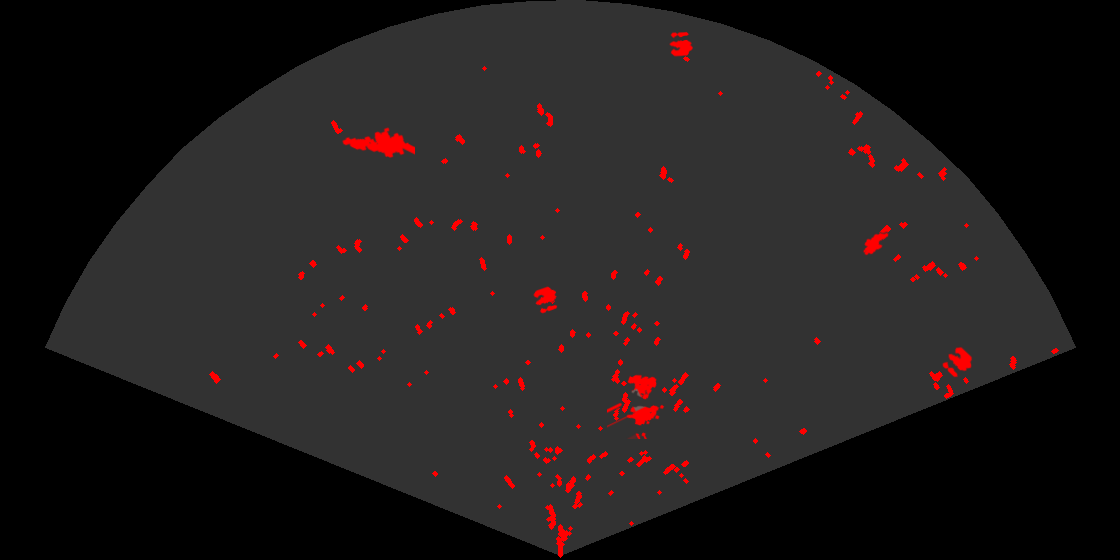AUV: (862, 231, 890, 257)
ball: (941, 345, 974, 379), (531, 285, 559, 315), (668, 30, 694, 58)
cage: (607, 373, 666, 439)
frogman: (341, 126, 415, 159)
